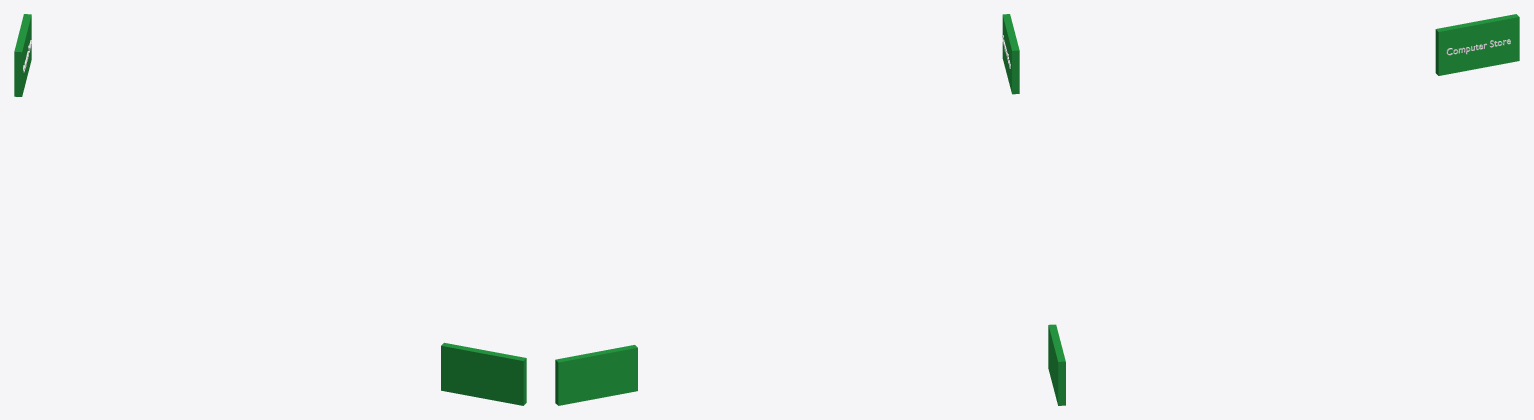
The model's file is ComputerSigns.glb.
3 renders of one model, left to right at view 1: azimuth 30°, elevation 25°; view 2: azimuth 150°, elevation 25°; view 3: azimuth 330°, elevation 25°, orthographic. The views are drawn at different scales.
Visible parts, largest first — view 1: Cube.062, Cube.057; view 2: Cube.057, Cube.062; view 3: Cube.057, Cube.062.
Boxes of the visible parts, bbox=[...] form: Cube.062: bbox=[441, 342, 526, 405]; Cube.057: bbox=[14, 14, 31, 96]; Cube.057: bbox=[555, 345, 637, 405]; Cube.062: bbox=[1002, 14, 1019, 94]; Cube.057: bbox=[1435, 14, 1519, 75]; Cube.062: bbox=[1048, 324, 1065, 405].
Bounding box in the file's own units: 3.05 × 2.06 × 37.83.
